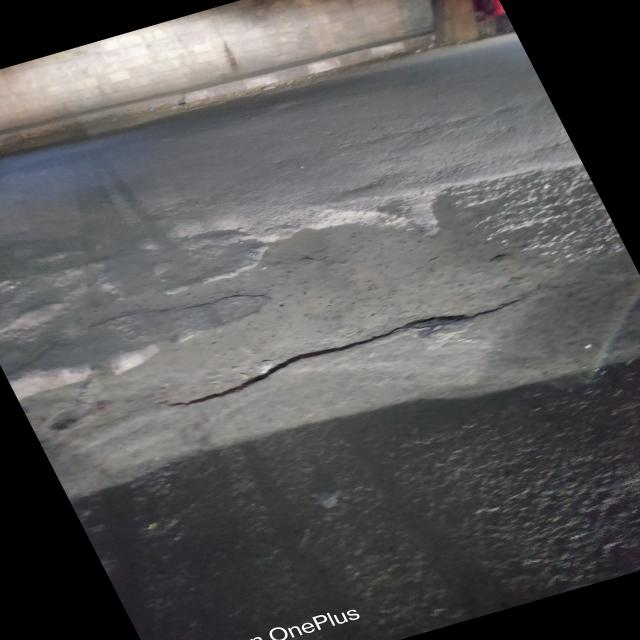potholes: (1, 211, 634, 409)
